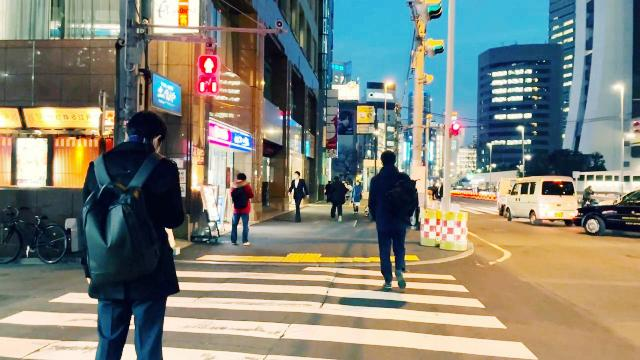berdiri: (81, 109, 185, 360), (231, 167, 257, 248)
berjalan: (368, 148, 422, 298)
